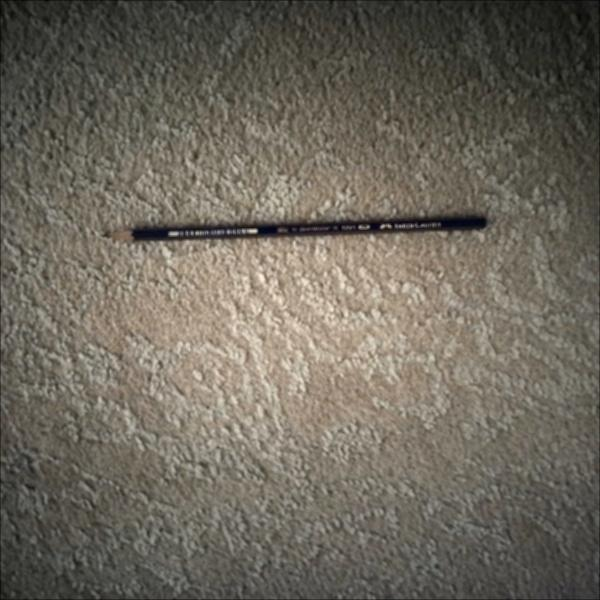pencil: (94, 206, 503, 247)
